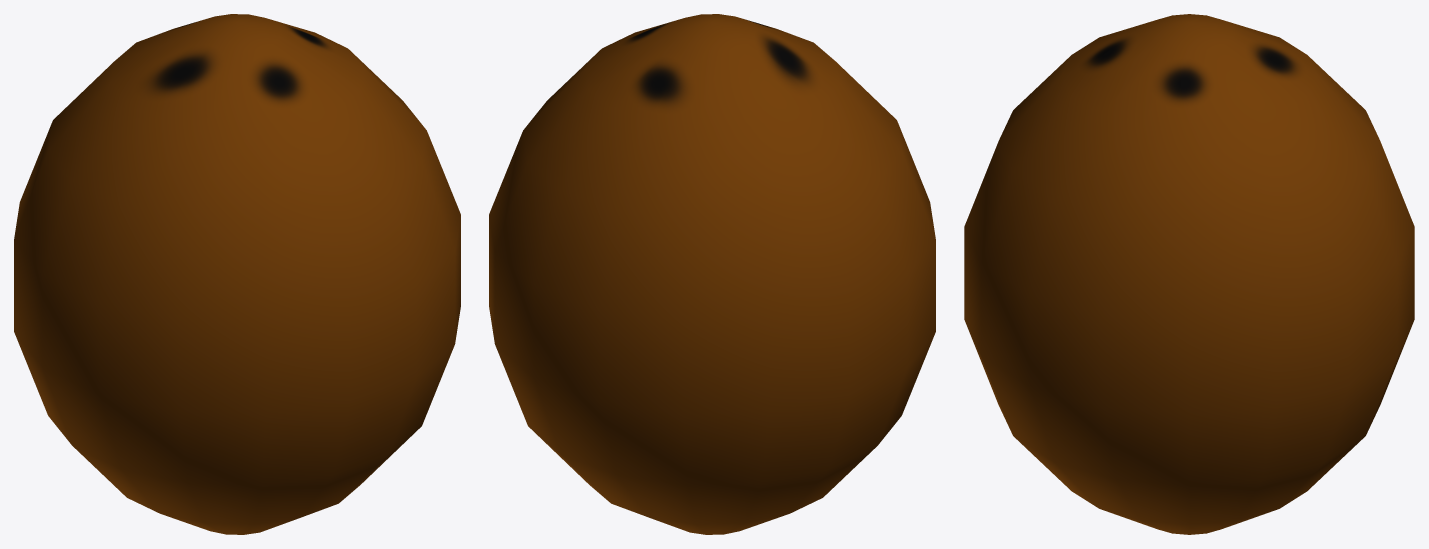
Rendered from coconutScaled.fbx.
3 renders of one model, left to right at view 1: azimuth 30°, elevation 25°; view 2: azimuth 150°, elevation 25°; view 3: azimuth 270°, elevation 25°, orthographic.
Visible parts, largest first — view 1: Sphere; view 2: Sphere; view 3: Sphere.
Boxes of the visible parts, x1=… form: Sphere: x1=14, y1=14, x2=460, y2=534; Sphere: x1=489, y1=14, x2=935, y2=534; Sphere: x1=964, y1=14, x2=1414, y2=534.
Size of the model in its own units: 49.98 by 62.55 by 49.98.
